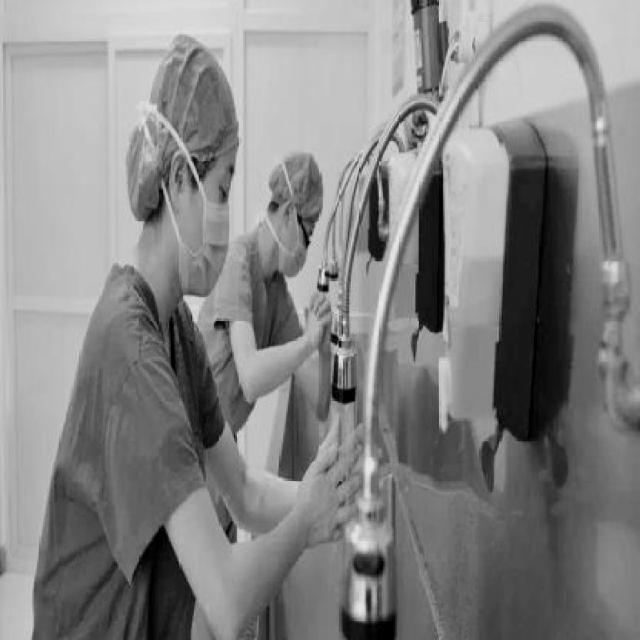face_mask: (174, 152, 251, 306), (269, 221, 323, 277)
hand_noglove: (302, 416, 383, 550), (305, 289, 332, 351)
head_nohelmet: (136, 46, 253, 160), (271, 153, 331, 225)
person: (5, 64, 278, 640), (132, 132, 357, 486)
